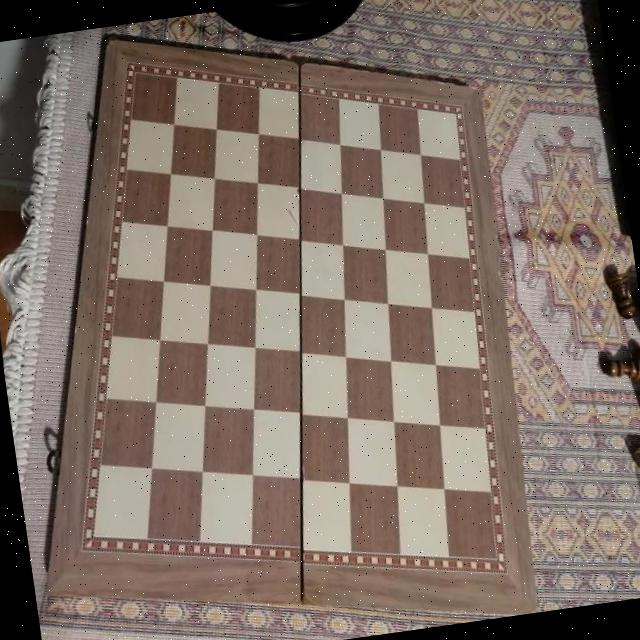corners: (34, 572, 61, 604), (466, 75, 494, 104), (102, 25, 124, 49), (524, 602, 538, 614)
